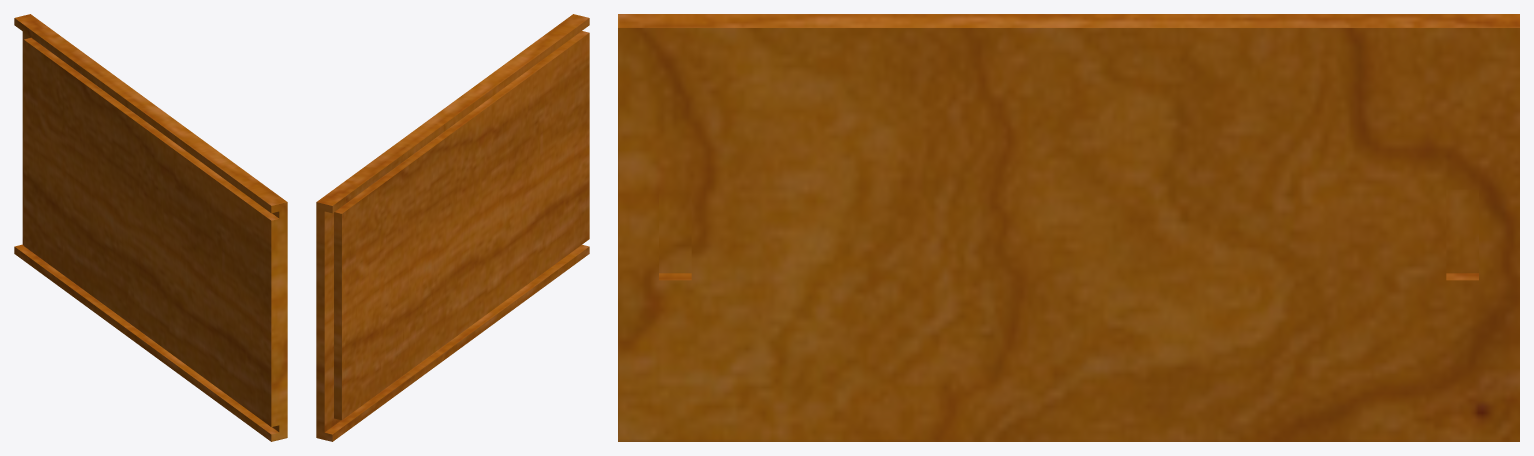
File: original-31.obj
3 renders of one model, left to right at view 1: azimuth 30°, elevation 25°; view 2: azimuth 150°, elevation 25°; view 3: azimuth 270°, elevation 25°, orthographic. The views are drawn at different scales.
Parts seen in each view (by area): view 1: Draw_Side2_2/Draw_Side2_1_2/mesh35/mesh35-geometry#mesh35-geomet; view 2: Draw_Side2_2/Draw_Side2_1_2/mesh35/mesh35-geometry#mesh35-geomet; view 3: Draw_Side2_2/Draw_Side2_1_2/mesh35/mesh35-geometry#mesh35-geomet.
Boxes of the visible parts, box(x1,y1,x2,y2) form: Draw_Side2_2/Draw_Side2_1_2/mesh35/mesh35-geometry#mesh35-geomet: box(14, 14, 287, 441); Draw_Side2_2/Draw_Side2_1_2/mesh35/mesh35-geometry#mesh35-geomet: box(316, 14, 589, 441); Draw_Side2_2/Draw_Side2_1_2/mesh35/mesh35-geometry#mesh35-geomet: box(618, 14, 1519, 441).
Bounding box in the file's own units: 0.0169 × 0.2358 × 0.4653.
